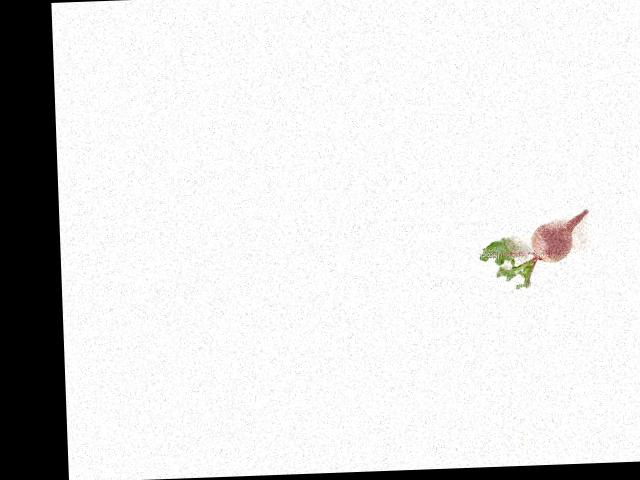beet: (477, 209, 590, 290)
